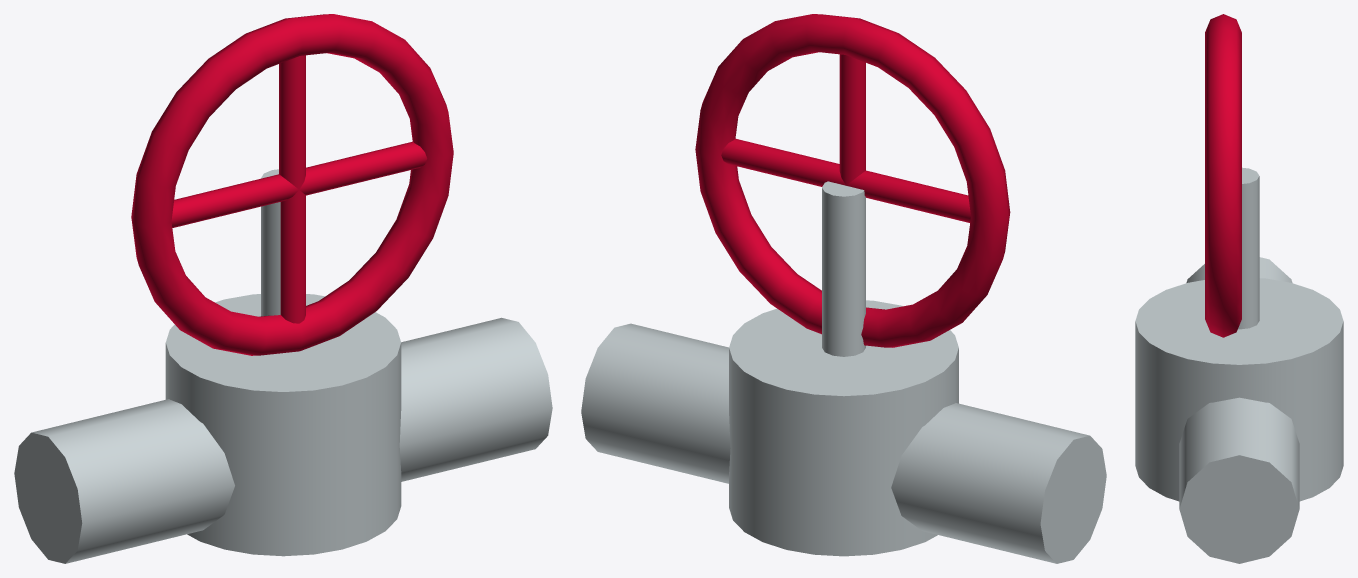
File: Valve_Handwheel.fbx
3 renders of one model, left to right at view 1: azimuth 30°, elevation 25°; view 2: azimuth 150°, elevation 25°; view 3: azimuth 270°, elevation 25°, orthographic. The views are drawn at different scales.
Parts seen in each view (by area): view 1: Valve_Handwheel_Steel, Valve_Handwheel_Red; view 2: Valve_Handwheel_Steel, Valve_Handwheel_Red; view 3: Valve_Handwheel_Steel, Valve_Handwheel_Red.
Part boxes in pixels (left/top/right/bottom): Valve_Handwheel_Steel: left=14, top=169, right=552, bottom=563; Valve_Handwheel_Red: left=131, top=14, right=453, bottom=355; Valve_Handwheel_Steel: left=581, top=181, right=1106, bottom=563; Valve_Handwheel_Red: left=695, top=14, right=1010, bottom=347; Valve_Handwheel_Steel: left=1135, top=167, right=1343, bottom=563; Valve_Handwheel_Red: left=1205, top=14, right=1241, bottom=337.
Size of the model in its own units: 60 by 60.3 by 26.
